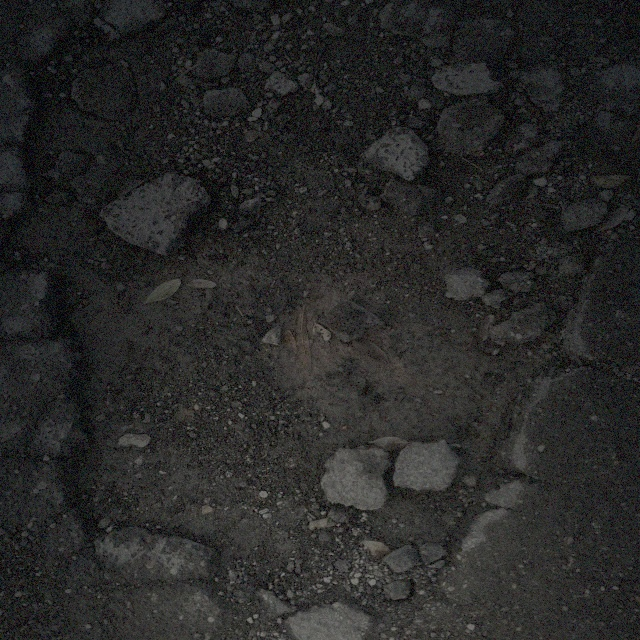pothole: (13, 40, 555, 616)
